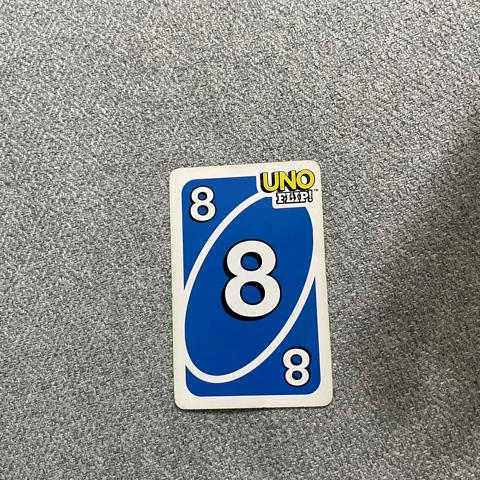0_yellow: (219, 235, 286, 322), (181, 182, 224, 227), (280, 339, 319, 387)
